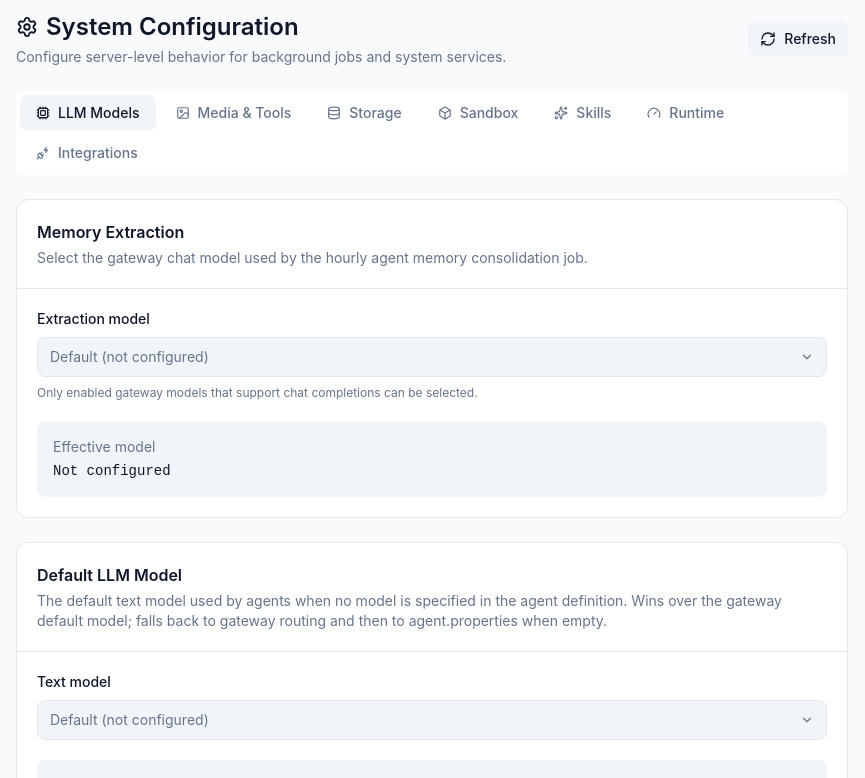
Scenario: SystemSettings sandbox resume control › disables the toggle when deployment blocks the capability
Click the button "Sandbox": coordinates (478, 113) [422, 95, 534, 131]
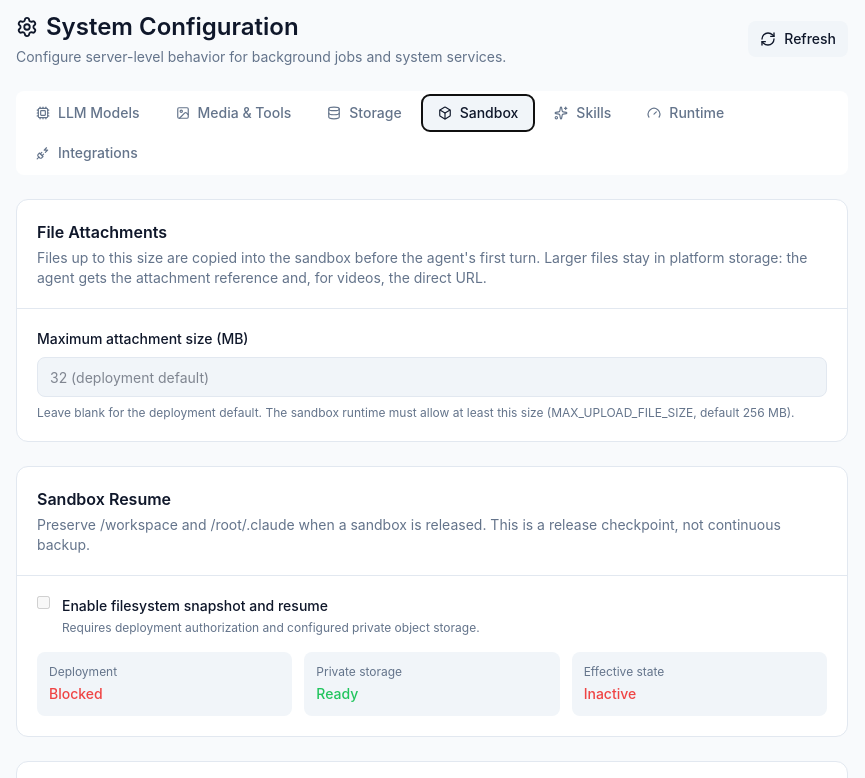
Expected: the checkbox labelled "Enable filesystem snapshot and resume" is disabled, [37, 596, 50, 609]
Expected: the text "Blocked" is shown, [49, 685, 103, 702]
